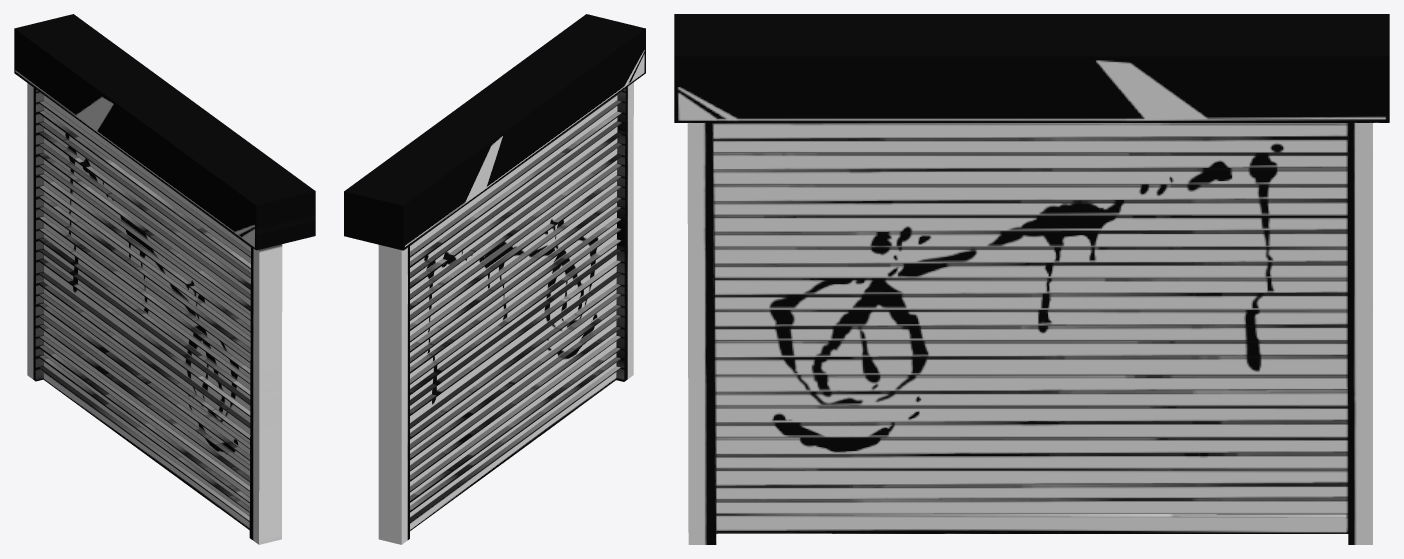
The model's file is persiana.fbx.
3 renders of one model, left to right at view 1: azimuth 30°, elevation 25°; view 2: azimuth 150°, elevation 25°; view 3: azimuth 270°, elevation 25°, orthographic. The views are drawn at different scales.
Parts seen in each view (by area): view 1: persiana, arriba; view 2: persiana, arriba; view 3: persiana, arriba.
Boxes of the visible parts, x1,y1,x2,y2 form: persiana: (39, 95, 250, 529); arriba: (14, 14, 315, 544); persiana: (410, 91, 621, 530); arriba: (344, 14, 645, 544); persiana: (712, 123, 1348, 533); arriba: (674, 14, 1389, 544).
Bounding box in the file's own units: 6.77 × 37.56 × 47.82.
